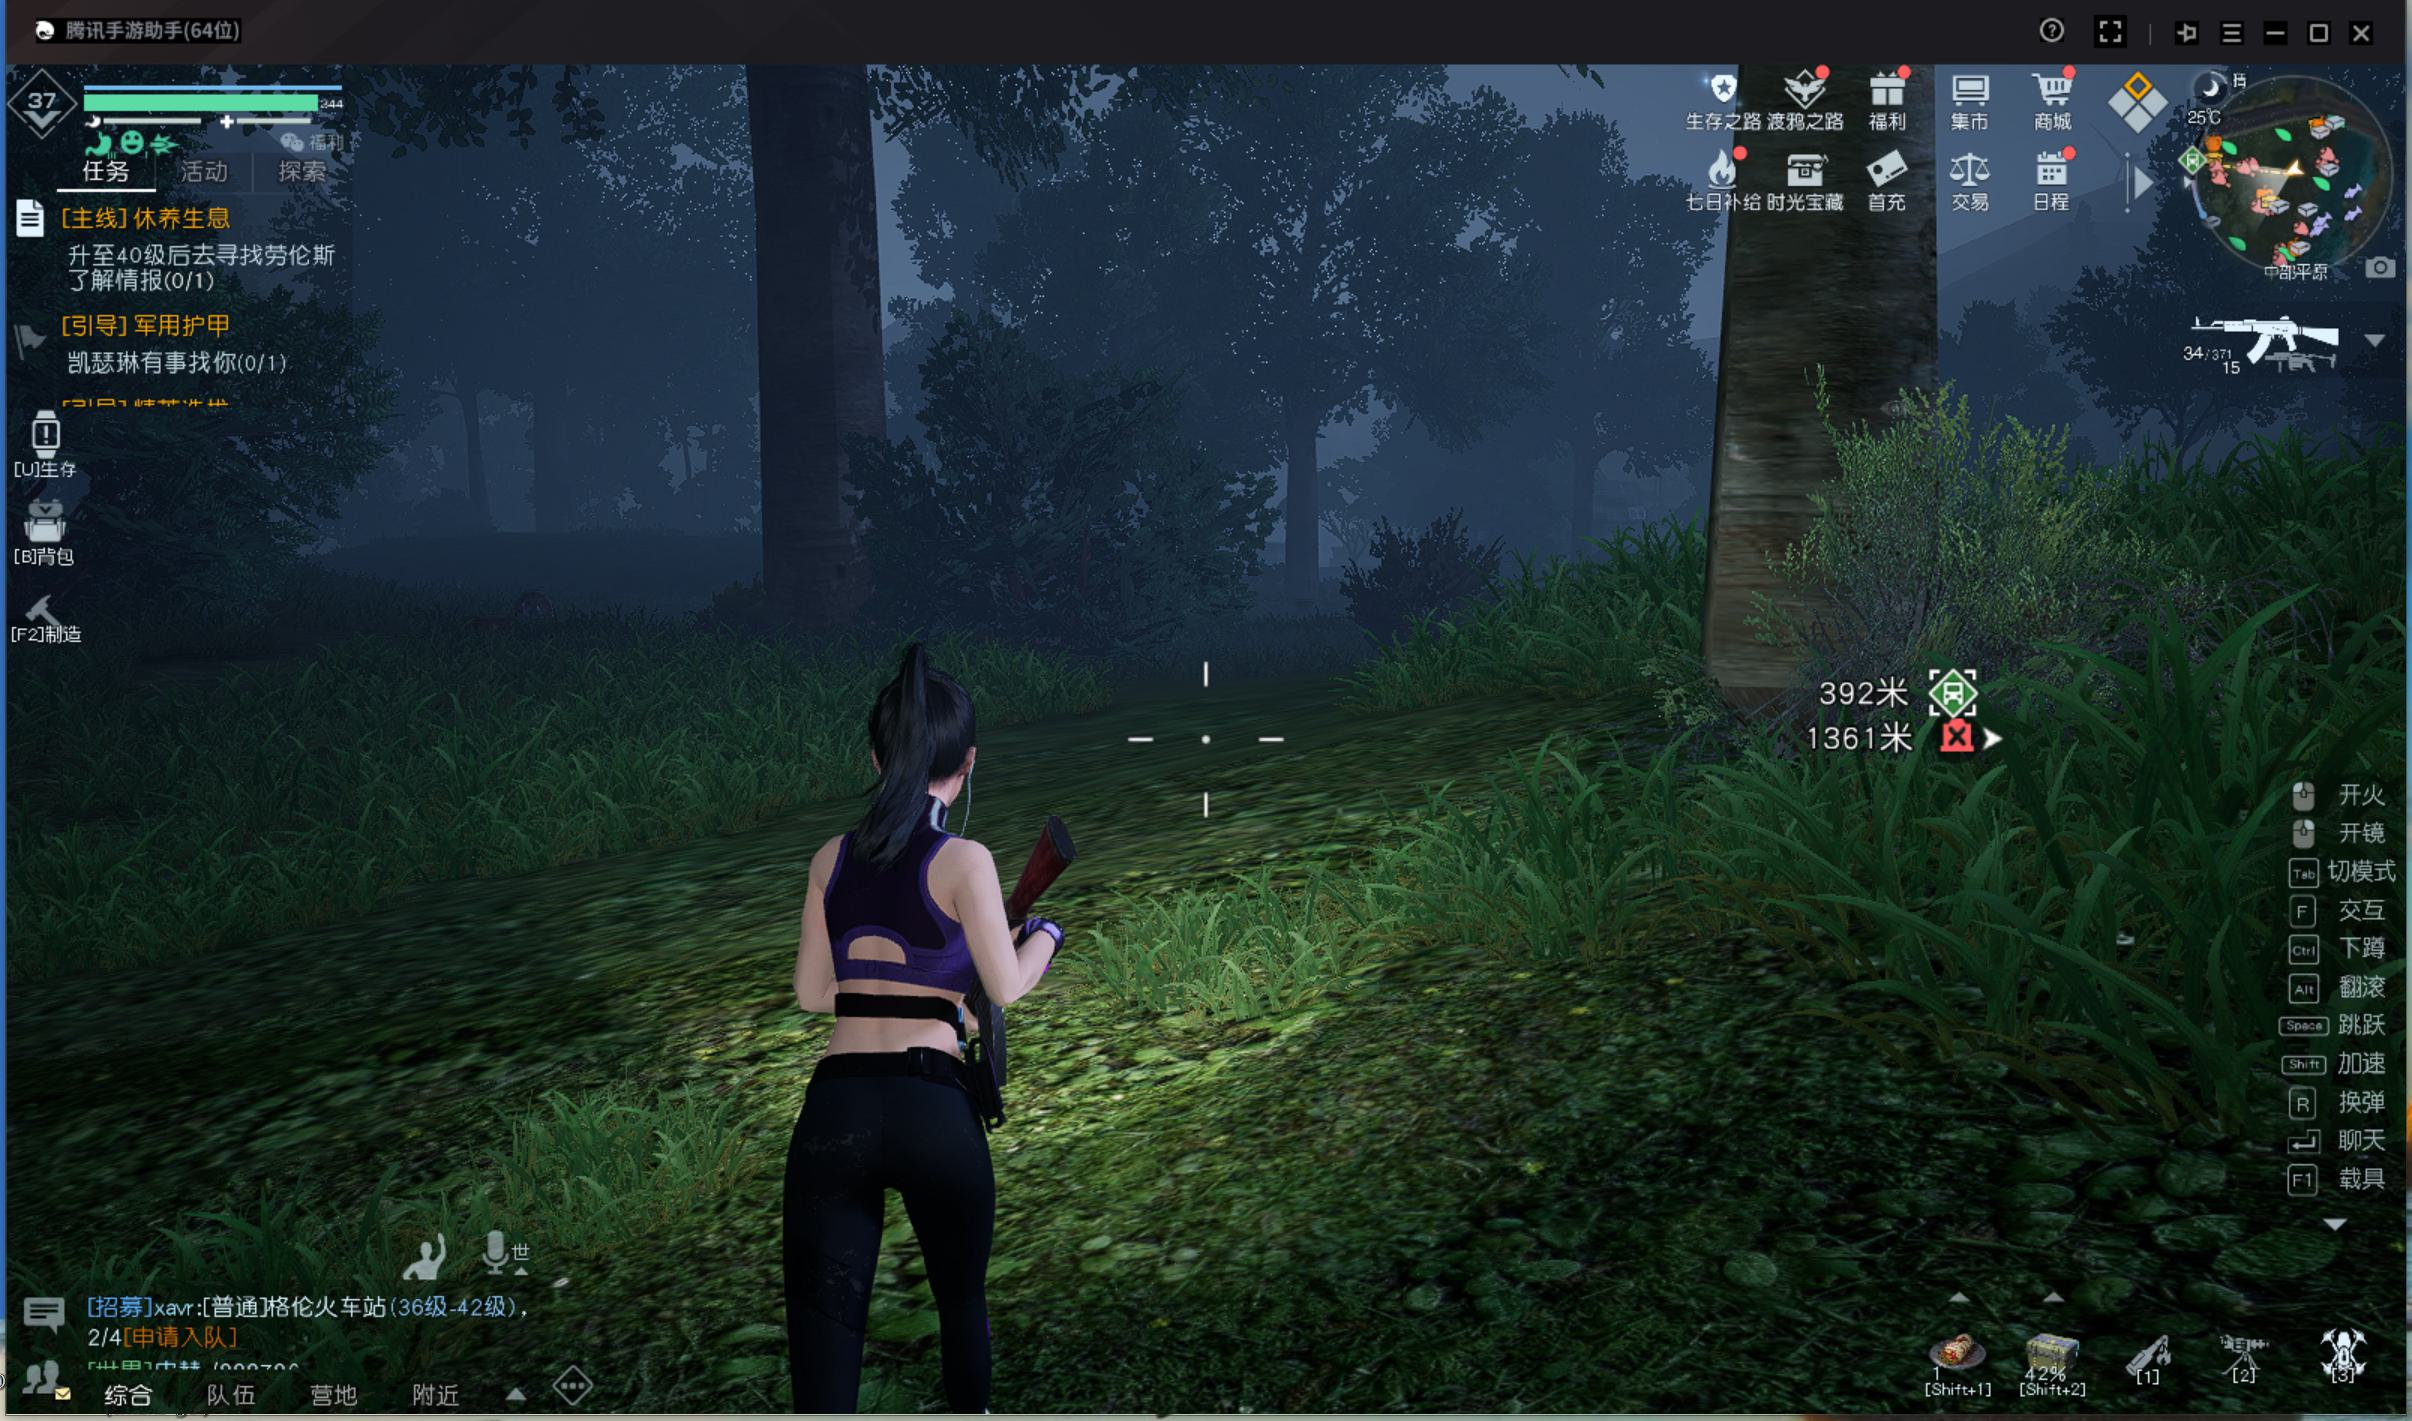tree: (1690, 162, 1950, 700), (734, 101, 902, 638), (1275, 377, 1328, 584)
